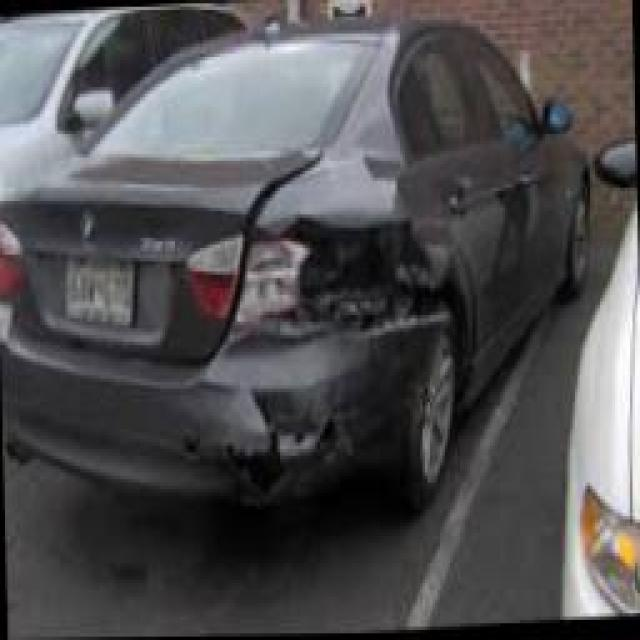Fender: (310, 204, 435, 330)
Light: (242, 235, 308, 326)
